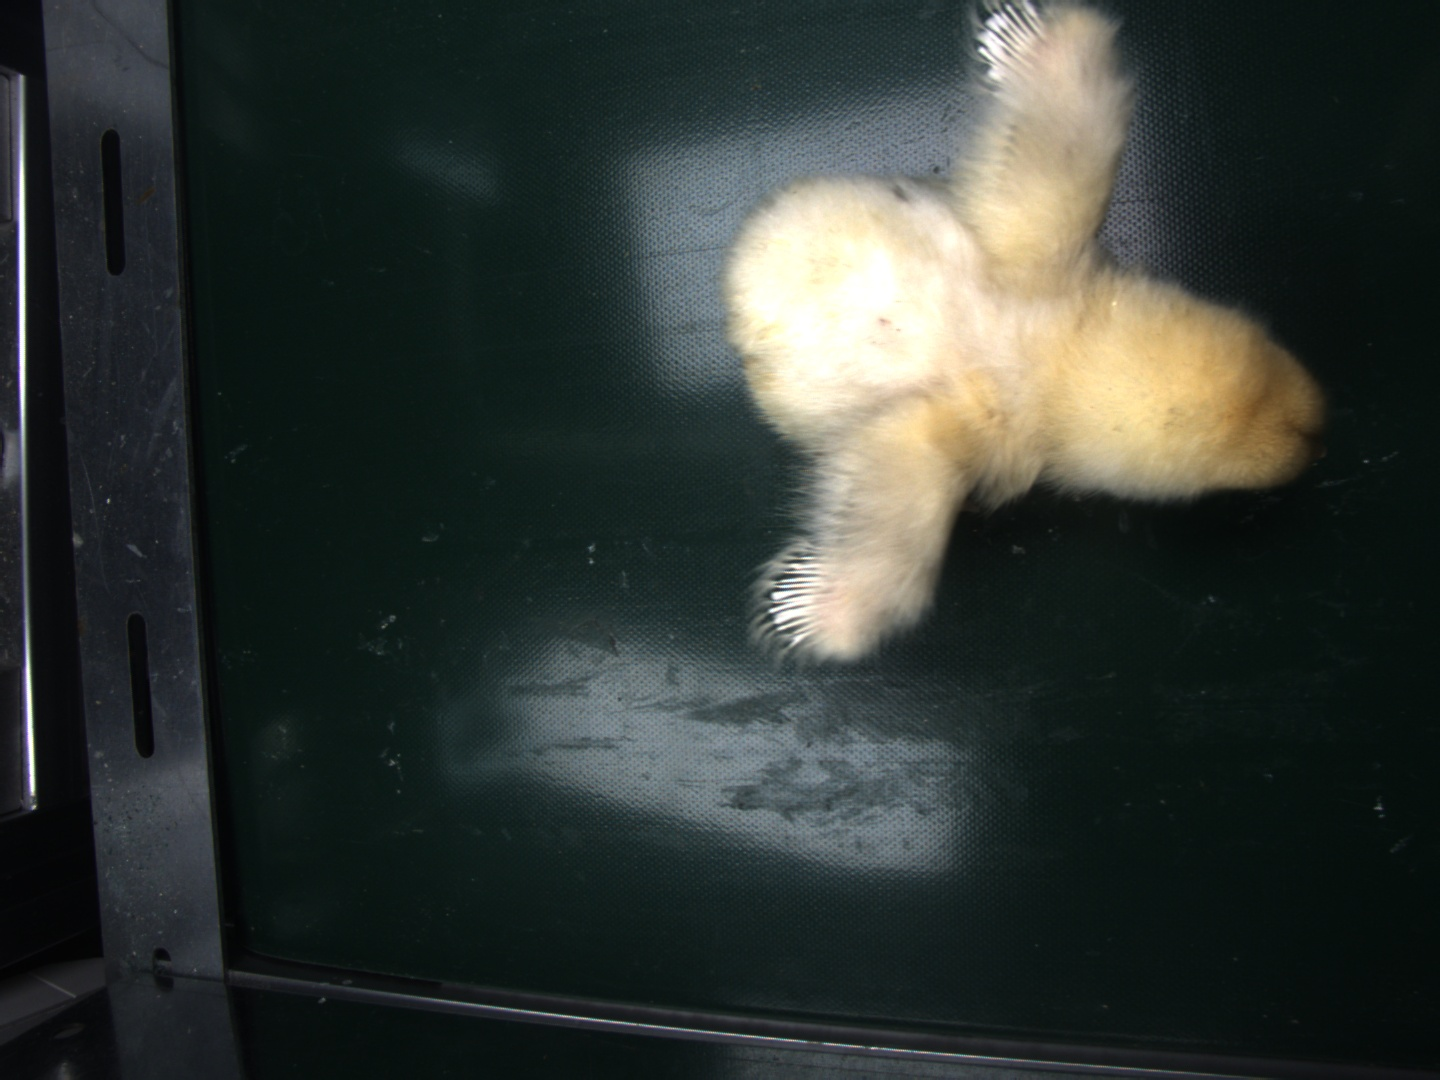male: (969, 1, 1047, 75), (769, 552, 827, 649)
